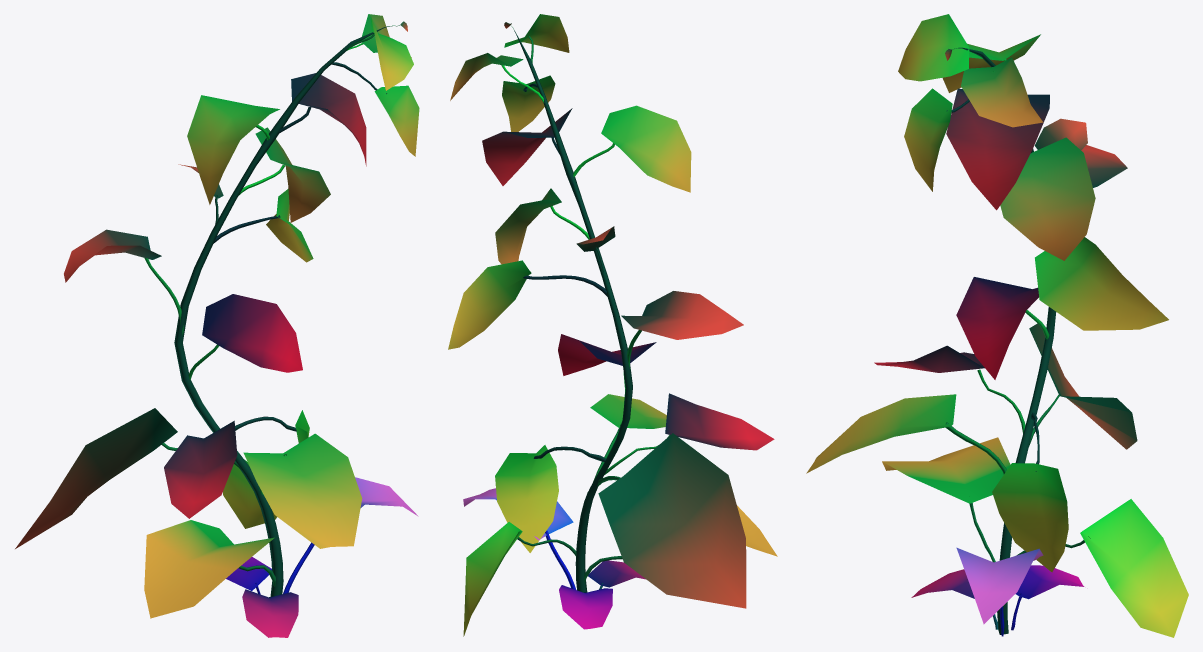
Rendered from Money_Plant_uchmfdyia_Low_uchmfdyia_VarC_LOD0.fbx.
3 renders of one model, left to right at view 1: azimuth 30°, elevation 25°; view 2: azimuth 150°, elevation 25°; view 3: azimuth 270°, elevation 25°, orthographic. The views are drawn at different scales.
Visible parts, largest first — view 1: _3198_VarC_LOD1; view 2: _3198_VarC_LOD1; view 3: _3198_VarC_LOD1.
Boxes of the visible parts, bbox=[...] form: _3198_VarC_LOD1: bbox=[15, 14, 419, 637]; _3198_VarC_LOD1: bbox=[448, 14, 777, 636]; _3198_VarC_LOD1: bbox=[806, 14, 1188, 637].
Size of the model in its own units: 20.14 by 33.01 by 17.4.
